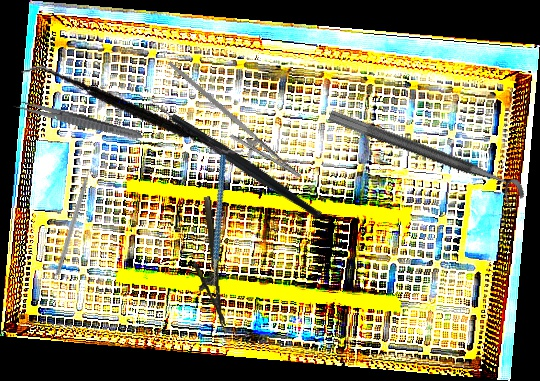Chopper: (135, 54, 323, 266), (169, 153, 274, 299), (55, 161, 100, 278)
Dressing Forceps: (12, 98, 145, 143)
Fixation Ring: (321, 108, 529, 214)
Needle Holder: (148, 60, 314, 190), (186, 195, 226, 330)
Spatula Surgical: (20, 35, 245, 189)
